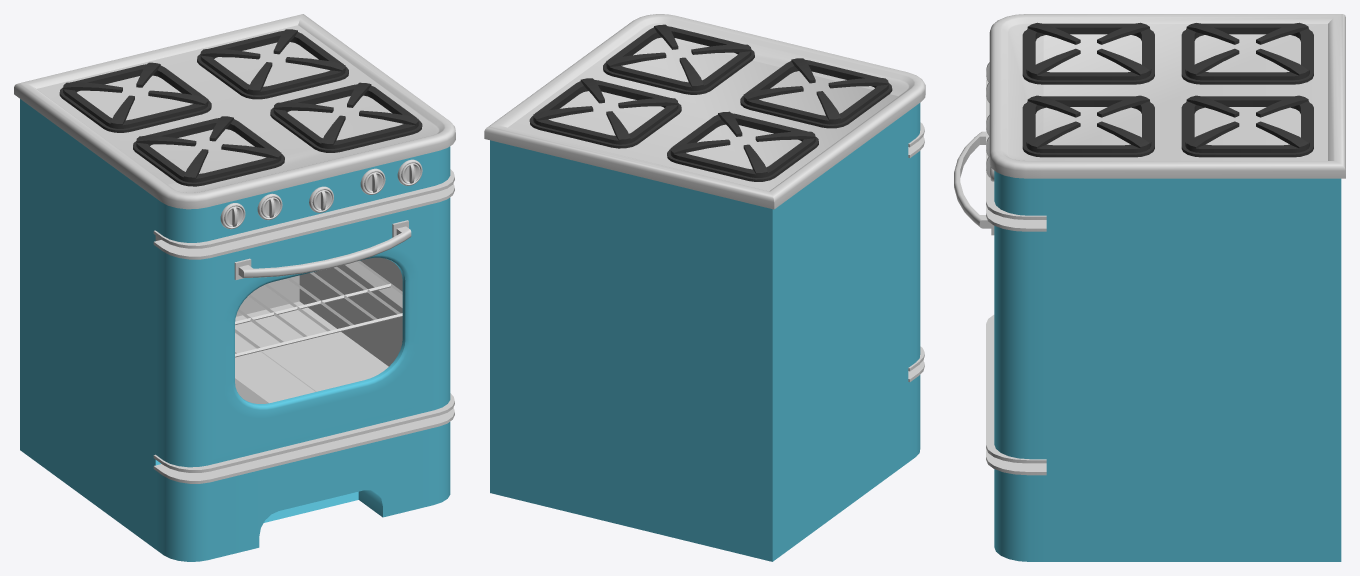
The model's file is Fogão.fbx.
3 renders of one model, left to right at view 1: azimuth 30°, elevation 25°; view 2: azimuth 150°, elevation 25°; view 3: azimuth 270°, elevation 25°, orthographic. The views are drawn at different scales.
Visible parts, largest first — view 1: Plane.001; view 2: Plane.001; view 3: Plane.001.
Boxes of the visible parts, x1=… form: Plane.001: x1=14, y1=14, x2=455, y2=561; Plane.001: x1=484, y1=14, x2=925, y2=561; Plane.001: x1=954, y1=14, x2=1345, y2=561.
Size of the model in its own units: 83.66 by 103 by 90.14.
